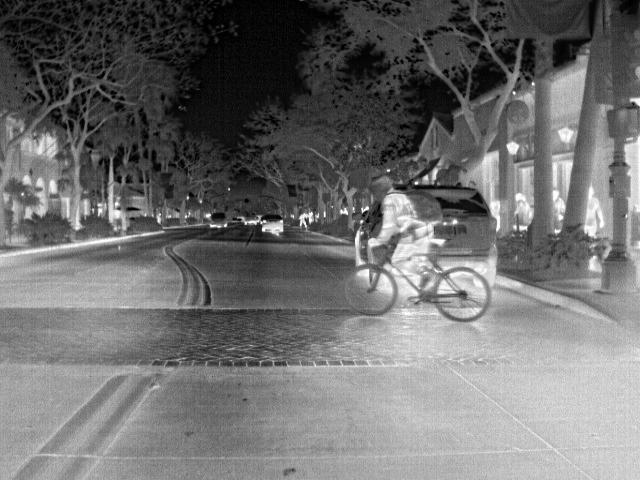car: (402, 184, 497, 288), (355, 202, 379, 266), (260, 214, 286, 232), (208, 210, 229, 230), (241, 211, 259, 227)
person: (364, 176, 441, 277), (582, 182, 606, 241), (549, 186, 566, 232), (512, 191, 528, 217), (297, 210, 310, 230)
